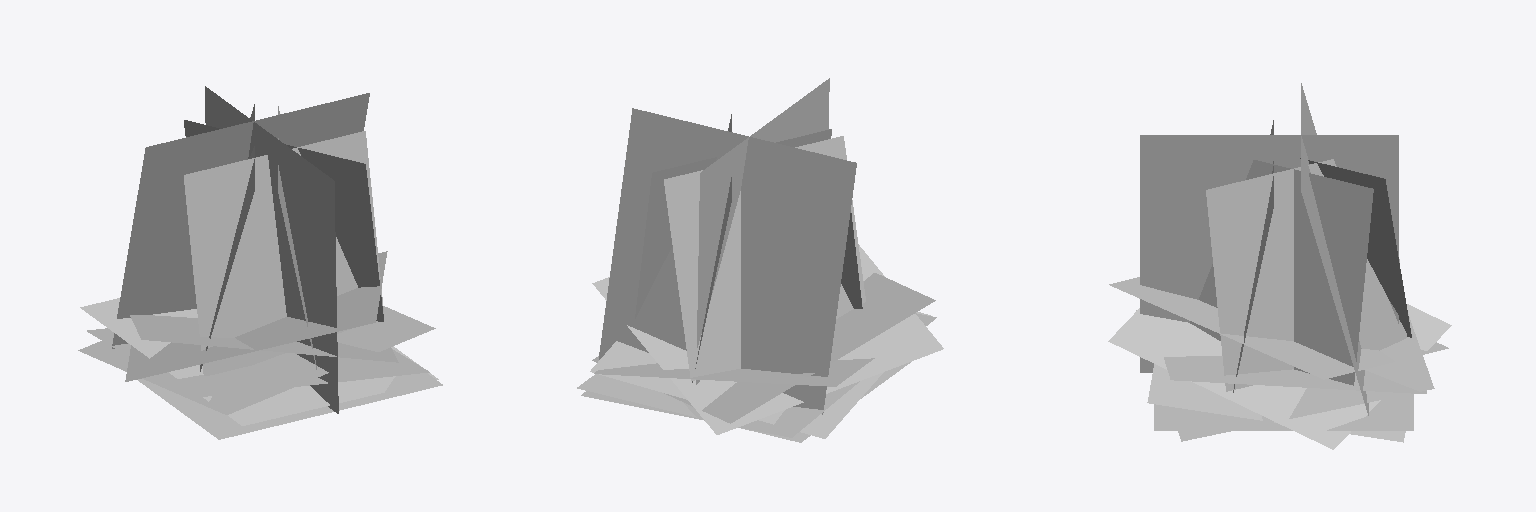
The model's file is stick_bundle.obj.
3 views of the same model, side by side, from view 1: azimuth 30°, elevation 25°; view 2: azimuth 150°, elevation 25°; view 3: azimuth 270°, elevation 25° (orthographic).
Visible parts, largest first — view 1: Cube; view 2: Cube; view 3: Cube.
Boxes of the visible parts, x1=… form: Cube: x1=78, y1=86, x2=442, y2=439; Cube: x1=577, y1=78, x2=943, y2=442; Cube: x1=1108, y1=83, x2=1451, y2=449.
Size of the model in its own units: 1.37 by 1.06 by 1.33.